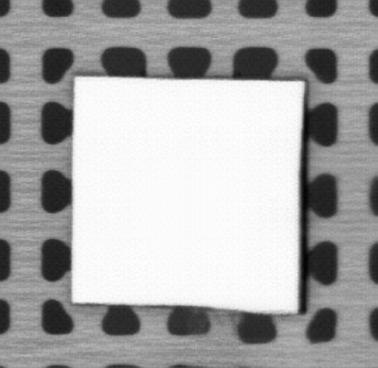DIE_BROKEN: (295, 96, 307, 316)
